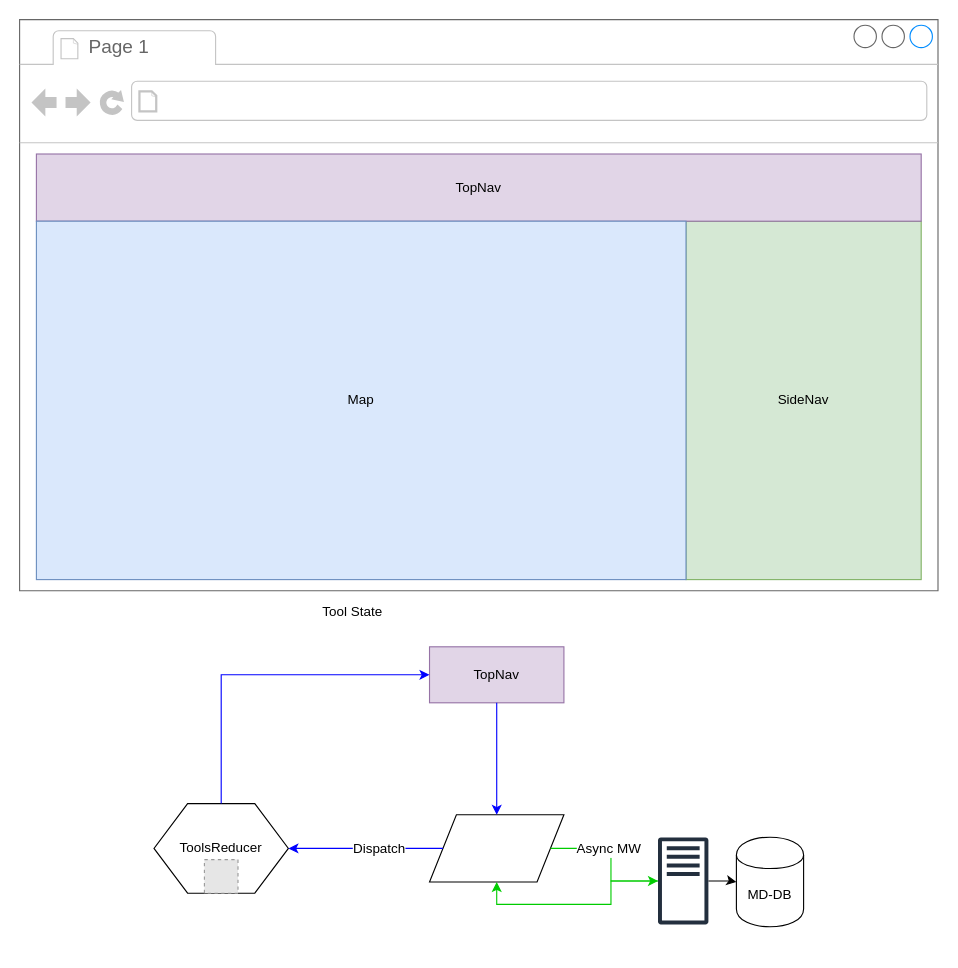
Some shapes in this 958 by 968 pixel diagram are drawn without their labels. Grey dashed boxes stand in for pictures. The centre of each missing label's shape, as x and y in pixels:
FETCH_TOOLS: point (496, 848)
https://www.draw.io: point (304, 101)
MD Server: point (682, 880)
